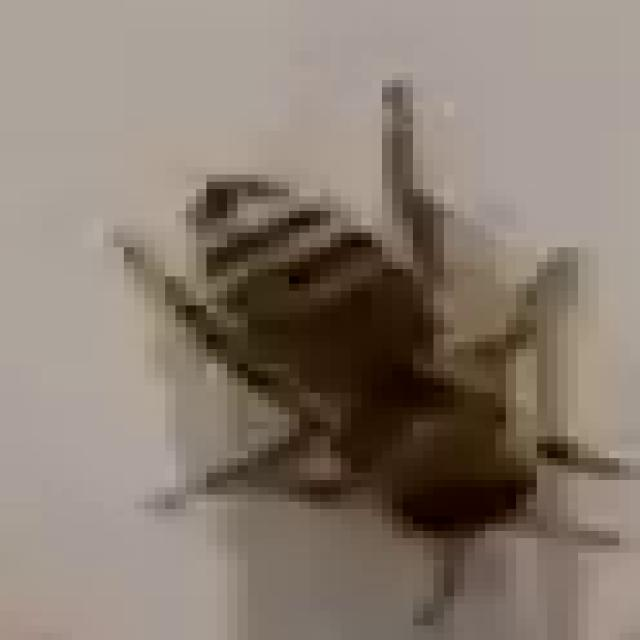honeybee: (124, 123, 640, 632)
